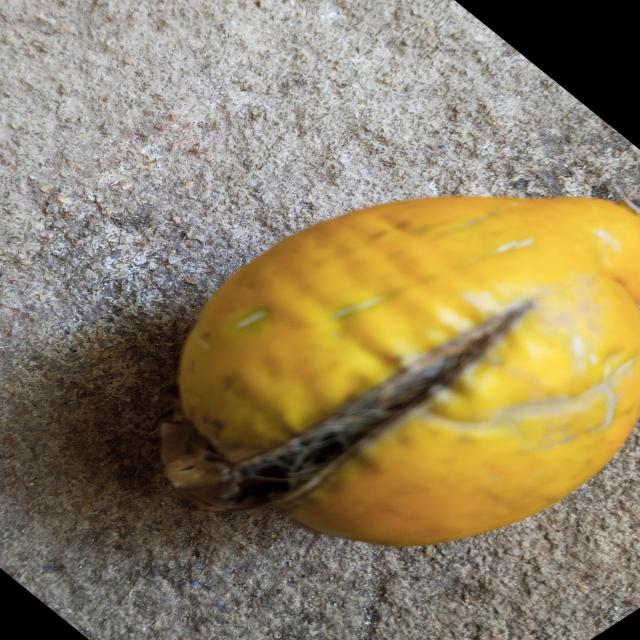damaged: (166, 196, 640, 550)
